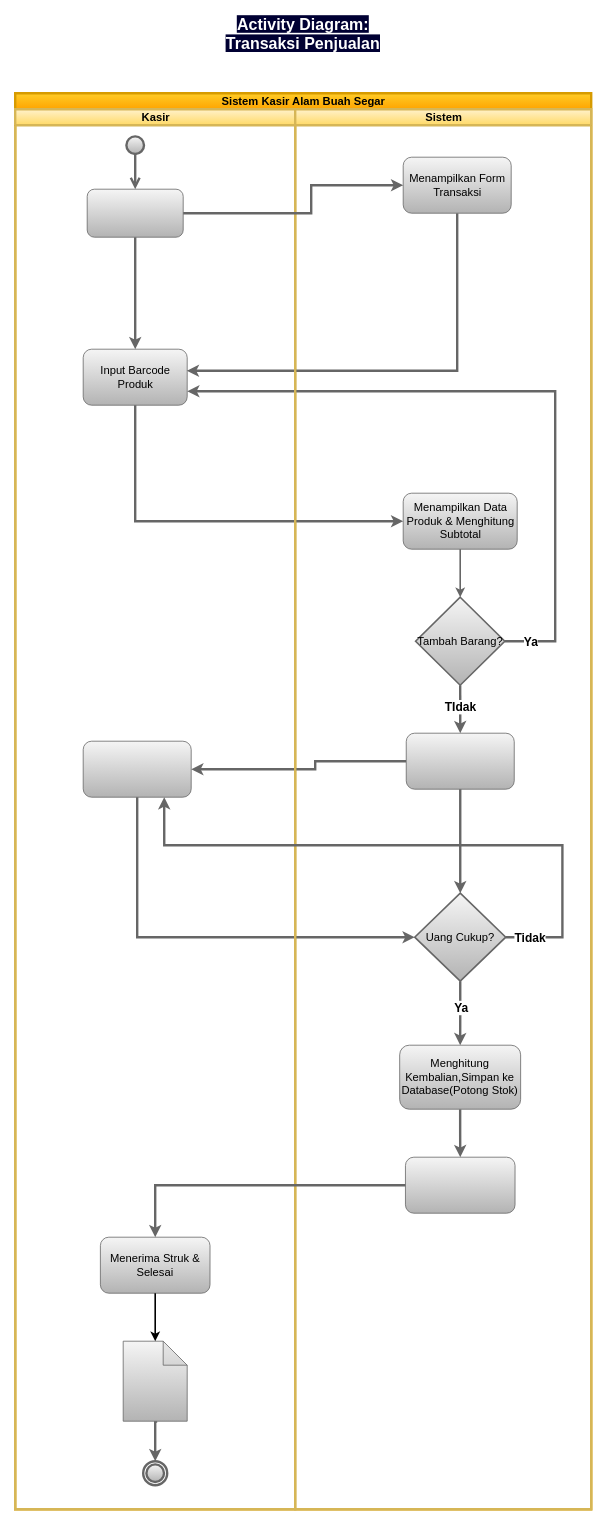
The diagram is 606 pixels wide and 1524 high, and some of its shapes have lost their labels. The shapes that lost their labels are listed below. From the top down, each one's centre as x and y in pixels, then its label:
pixel 134 212: Memilih Menu Transaksi Penjualan
pixel 136 768: Menginput Nominal Uang Bayar
pixel 459 760: Menampilkan Total Belanja
pixel 460 1184: Cetak Struk Penjualan
pixel 154 1380: Struk
